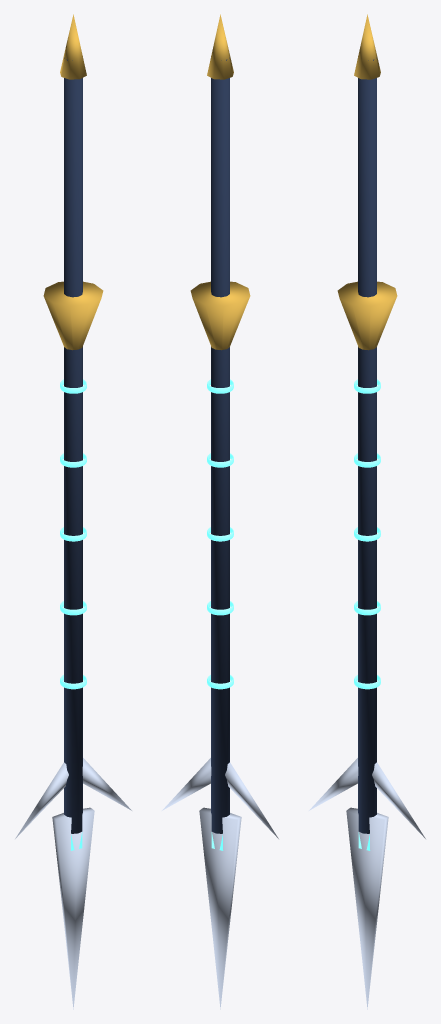
Rendered from weapon_lanceiro_ia.glb.
The picture shows the model from 3 angles, left to right: view 1: azimuth 30°, elevation 25°; view 2: azimuth 150°, elevation 25°; view 3: azimuth 330°, elevation 25°; orthographic projection.
Parts seen in each view (by area): view 1: Haste, Ponta, Guarda, Calcanhar, Aleta, Aleta.001; view 2: Haste, Ponta, Guarda, Calcanhar, Aleta, Aleta.001; view 3: Haste, Ponta, Guarda, Calcanhar, Aleta.001, Aleta.
Part boxes in pixels (x1,y1,x2,y2): Haste: (64,57,82,833); Ponta: (52,807,94,1009); Guarda: (43,281,103,350); Calcanhar: (60,14,86,79); Aleta: (15,762,68,838); Aleta.001: (82,758,131,810); Haste: (211,57,229,833); Ponta: (199,807,241,1009); Guarda: (190,281,250,350); Calcanhar: (207,14,233,79); Aleta: (225,762,278,838); Aleta.001: (162,758,211,810); Haste: (358,57,376,833); Ponta: (346,807,388,1009); Guarda: (337,281,397,350); Calcanhar: (354,14,380,79); Aleta.001: (372,762,425,838); Aleta: (309,758,358,810).
Bounding box in the file's own units: 0.5361 × 4.31 × 0.24.
